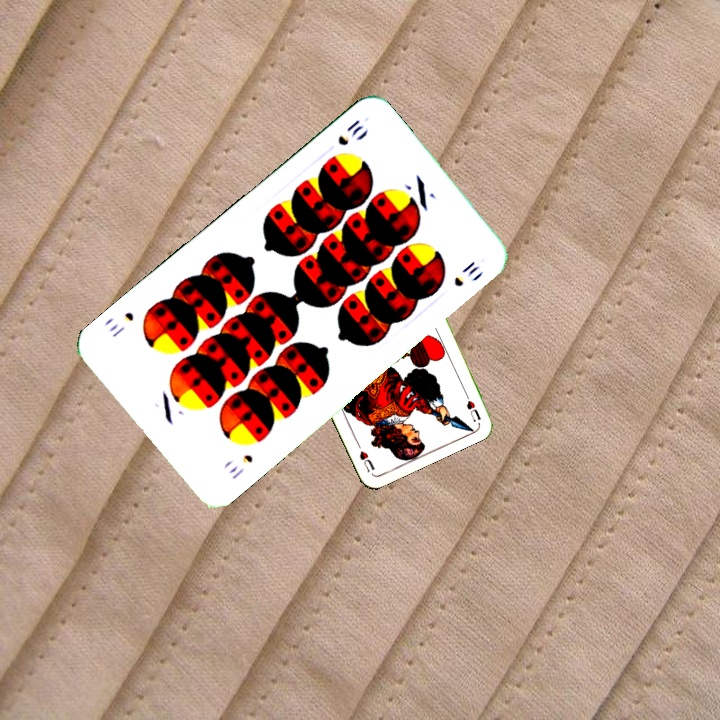HU: (459, 386, 483, 424)
S10: (333, 115, 366, 148), (224, 450, 256, 482)
